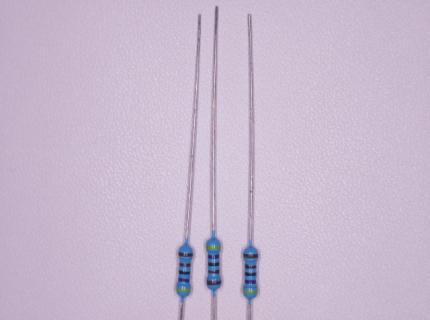Black band: (179, 270, 190, 275), (208, 262, 220, 266), (245, 272, 256, 276)
Brown band: (207, 280, 221, 285), (244, 264, 257, 269), (243, 254, 258, 258), (179, 252, 193, 256), (179, 262, 190, 267), (208, 269, 219, 274)
Violet band: (178, 277, 190, 283), (208, 254, 219, 260), (245, 280, 256, 284)
Yellow band: (243, 289, 258, 294), (206, 245, 220, 249), (177, 288, 190, 292)
